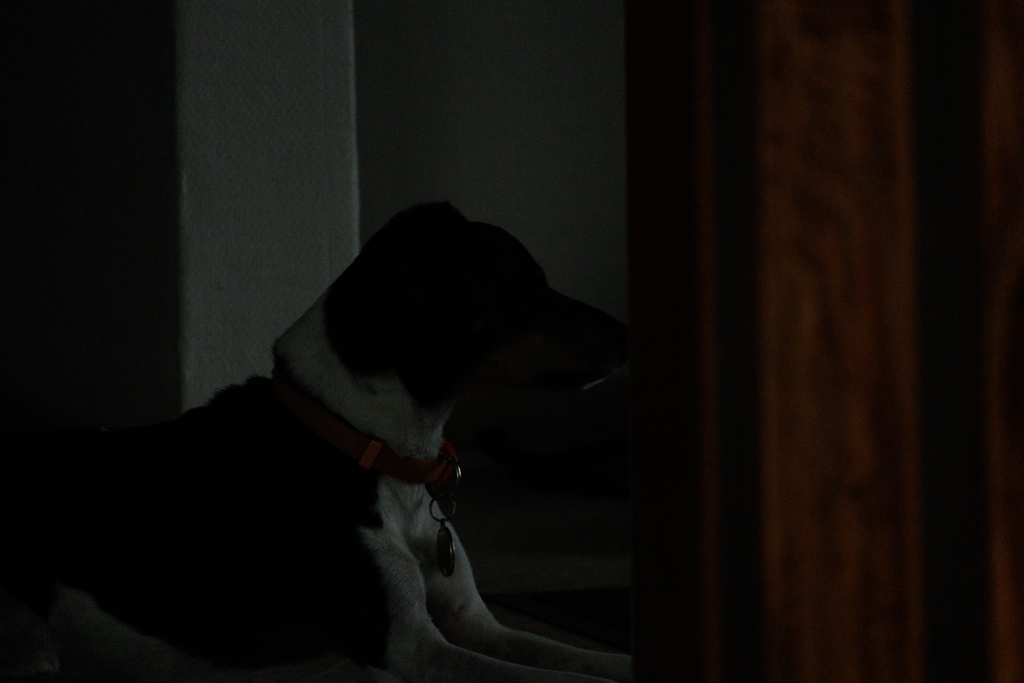Dog: (0, 195, 653, 683)
